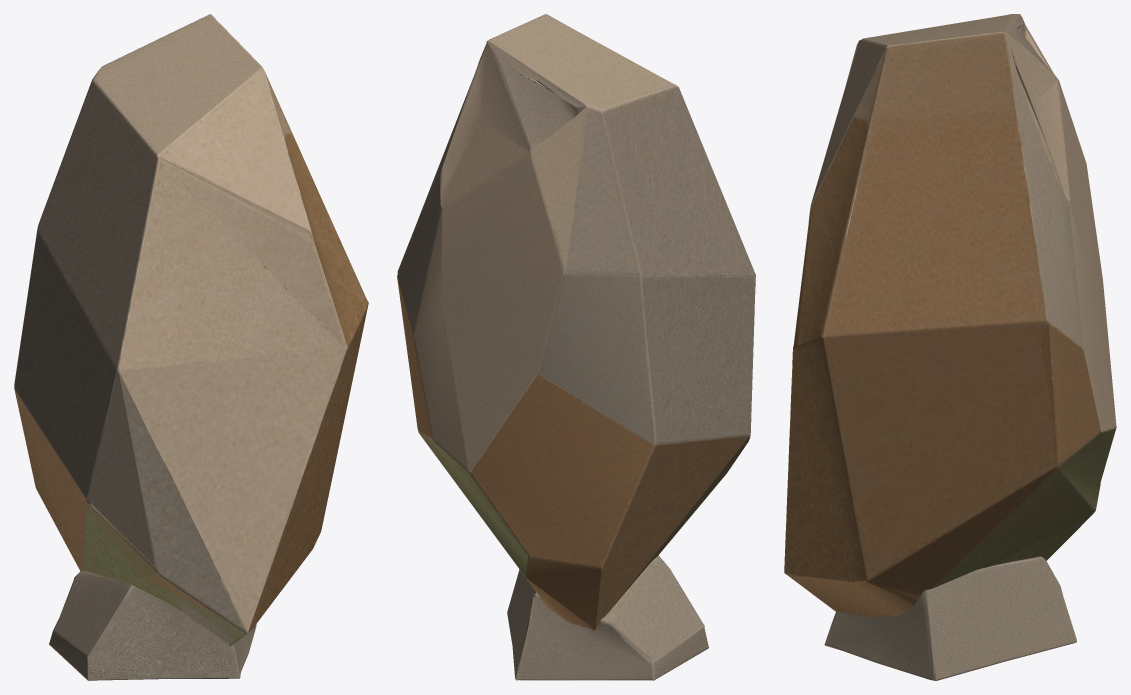
The model's file is AW-ROCK-003-v0.2.glb.
3 views of the same model, side by side, from view 1: azimuth 30°, elevation 25°; view 2: azimuth 150°, elevation 25°; view 3: azimuth 270°, elevation 25° (orthographic). The views are drawn at different scales.
Visible parts, largest first — view 1: AW-ROCK-003_meter_ground_pivot; view 2: AW-ROCK-003_meter_ground_pivot; view 3: AW-ROCK-003_meter_ground_pivot.
Part boxes in pixels (x1=…): AW-ROCK-003_meter_ground_pivot: x1=14, y1=14, x2=368, y2=680; AW-ROCK-003_meter_ground_pivot: x1=397, y1=14, x2=755, y2=680; AW-ROCK-003_meter_ground_pivot: x1=784, y1=14, x2=1116, y2=680.
Size of the model in its own units: 0.7031 by 1.5 by 0.7038.
Materials: 1 (1 with a texture image).
